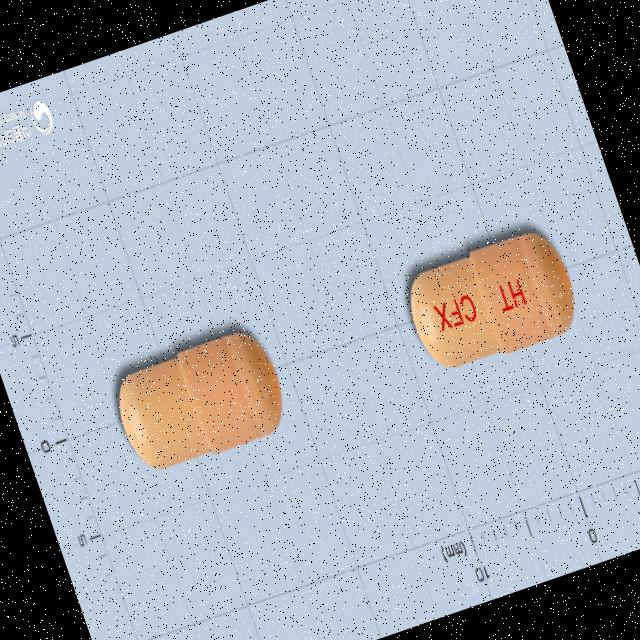Cefaxime Cap: (389, 208, 593, 388), (100, 316, 297, 484)
